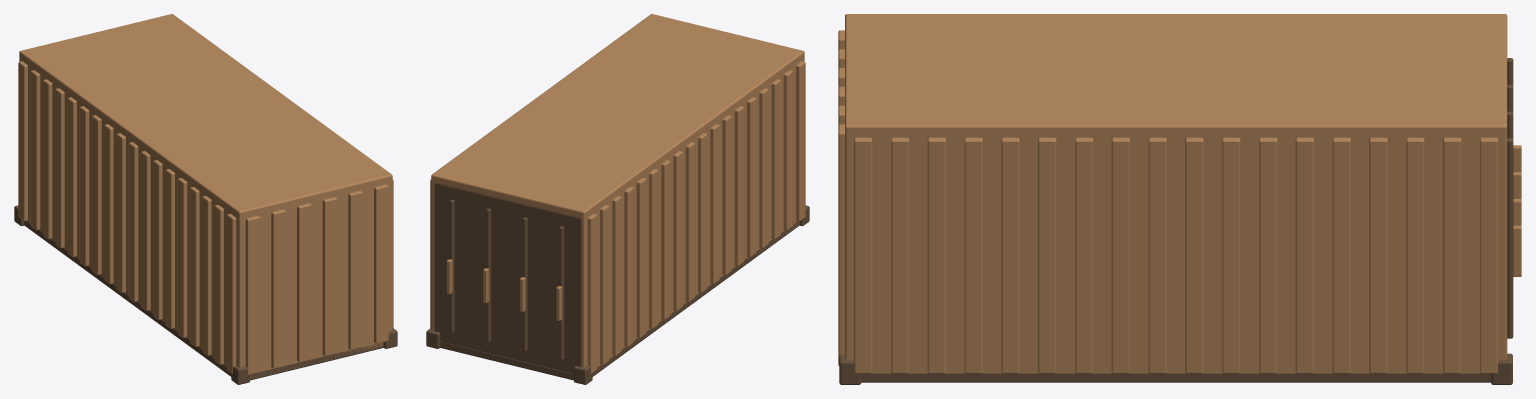
Rendered from container.glb.
The picture shows the model from 3 angles, left to right: view 1: azimuth 30°, elevation 25°; view 2: azimuth 150°, elevation 25°; view 3: azimuth 270°, elevation 25°; orthographic projection. The views are drawn at different scales.
Visible parts, largest first — view 1: roof, front, wall_-1, frib_3, frib_0, frib_1, frib_2, frib_4, frib_5, floor, rib_-1_4, rib_-1_8 (+17 smaller); view 2: roof, door, wall_-1, floor, rib_-1_1, rib_-1_9, rib_-1_13, rib_-1_5, rib_-1_2, rib_-1_6, rib_-1_16, rib_-1_0 (+15 smaller); view 3: wall_1, roof, floor, rib_1_12, rib_1_1, rib_1_2, rib_1_5, rib_1_6, rib_1_13, rib_1_0, rib_1_3, rib_1_4 (+12 smaller).
Part boxes in pixels (left/top/right/bottom): roof: left=19, top=14, right=392, bottom=218; front: left=237, top=174, right=392, bottom=378; wall_-1: left=19, top=50, right=242, bottom=367; frib_3: left=322, top=197, right=337, bottom=356; frib_0: left=245, top=215, right=260, bottom=375; frib_1: left=271, top=209, right=285, bottom=368; frib_2: left=297, top=203, right=311, bottom=362; frib_4: left=348, top=190, right=362, bottom=349; frib_5: left=374, top=184, right=388, bottom=343; floor: left=24, top=221, right=383, bottom=380; rib_-1_4: left=177, top=178, right=187, bottom=337; rib_-1_8: left=128, top=142, right=138, bottom=301; roof: left=431, top=14, right=804, bottom=218; door: left=434, top=183, right=580, bottom=373; wall_-1: left=580, top=50, right=804, bottom=367; floor: left=440, top=221, right=799, bottom=380; rib_-1_1: left=783, top=70, right=793, bottom=230; rib_-1_9: left=685, top=142, right=695, bottom=301; rib_-1_13: left=636, top=178, right=646, bottom=337; rib_-1_5: left=734, top=106, right=744, bottom=265; rib_-1_2: left=771, top=79, right=780, bottom=239; rib_-1_6: left=722, top=115, right=731, bottom=275; rib_-1_16: left=600, top=204, right=609, bottom=364; rib_-1_0: left=796, top=61, right=805, bottom=221; wall_1: left=845, top=123, right=1507, bottom=373; roof: left=845, top=14, right=1507, bottom=135; floor: left=861, top=373, right=1490, bottom=382; rib_1_12: left=1295, top=137, right=1314, bottom=373; rib_1_1: left=891, top=137, right=909, bottom=373; rib_1_2: left=927, top=137, right=945, bottom=373; rib_1_5: left=1038, top=137, right=1056, bottom=373; rib_1_6: left=1075, top=137, right=1093, bottom=373; rib_1_13: left=1332, top=137, right=1350, bottom=373; rib_1_0: left=854, top=137, right=872, bottom=373; rib_1_3: left=964, top=137, right=982, bottom=373; rib_1_4: left=1001, top=137, right=1019, bottom=373.
Size of the model in its own units: 2.56 by 2.6 by 6.25.
